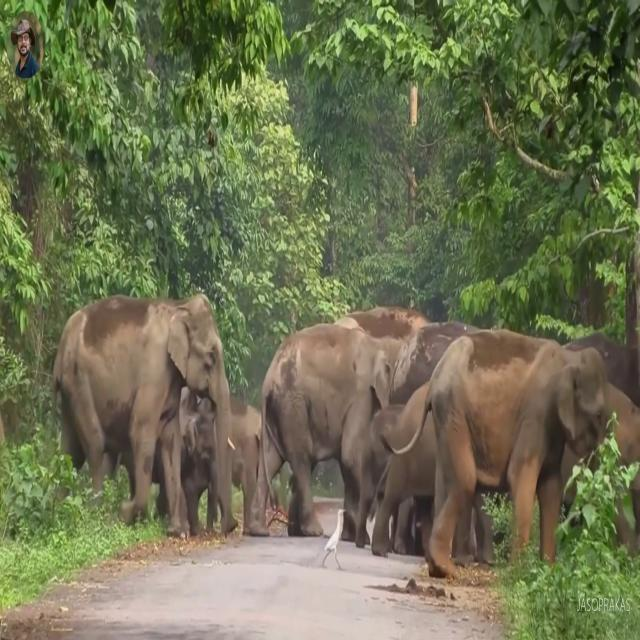Elephant: (50, 292, 236, 538)
